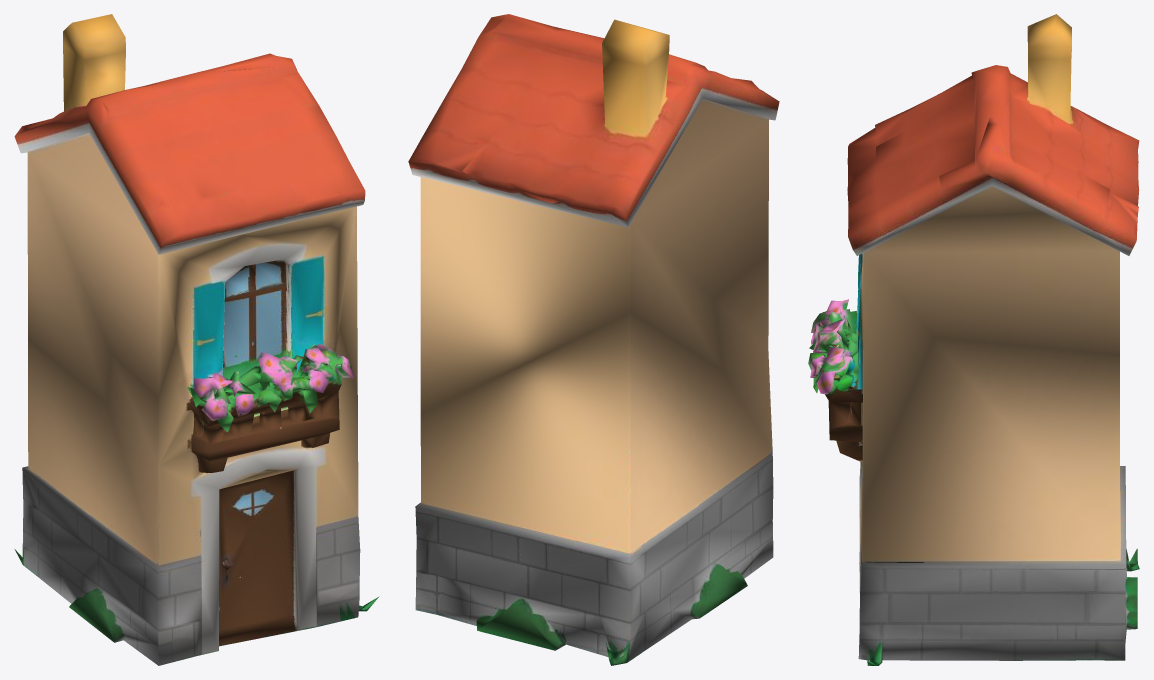
Rendered from house_terra_3.glb.
3 views of the same model, side by side, from view 1: azimuth 30°, elevation 25°; view 2: azimuth 150°, elevation 25°; view 3: azimuth 270°, elevation 25° (orthographic). The views are drawn at different scales.
Visible parts, largest first — view 1: ЦІЛЬ; view 2: ЦІЛЬ; view 3: ЦІЛЬ.
Part boxes in pixels (box(x1,y1,x2,y2)): ЦІЛЬ: box(14, 14, 379, 665); ЦІЛЬ: box(408, 14, 779, 665); ЦІЛЬ: box(808, 14, 1139, 665).
Size of the model in its own units: 0.9325 by 2.15 by 1.16.
1 material, 1 textured.
